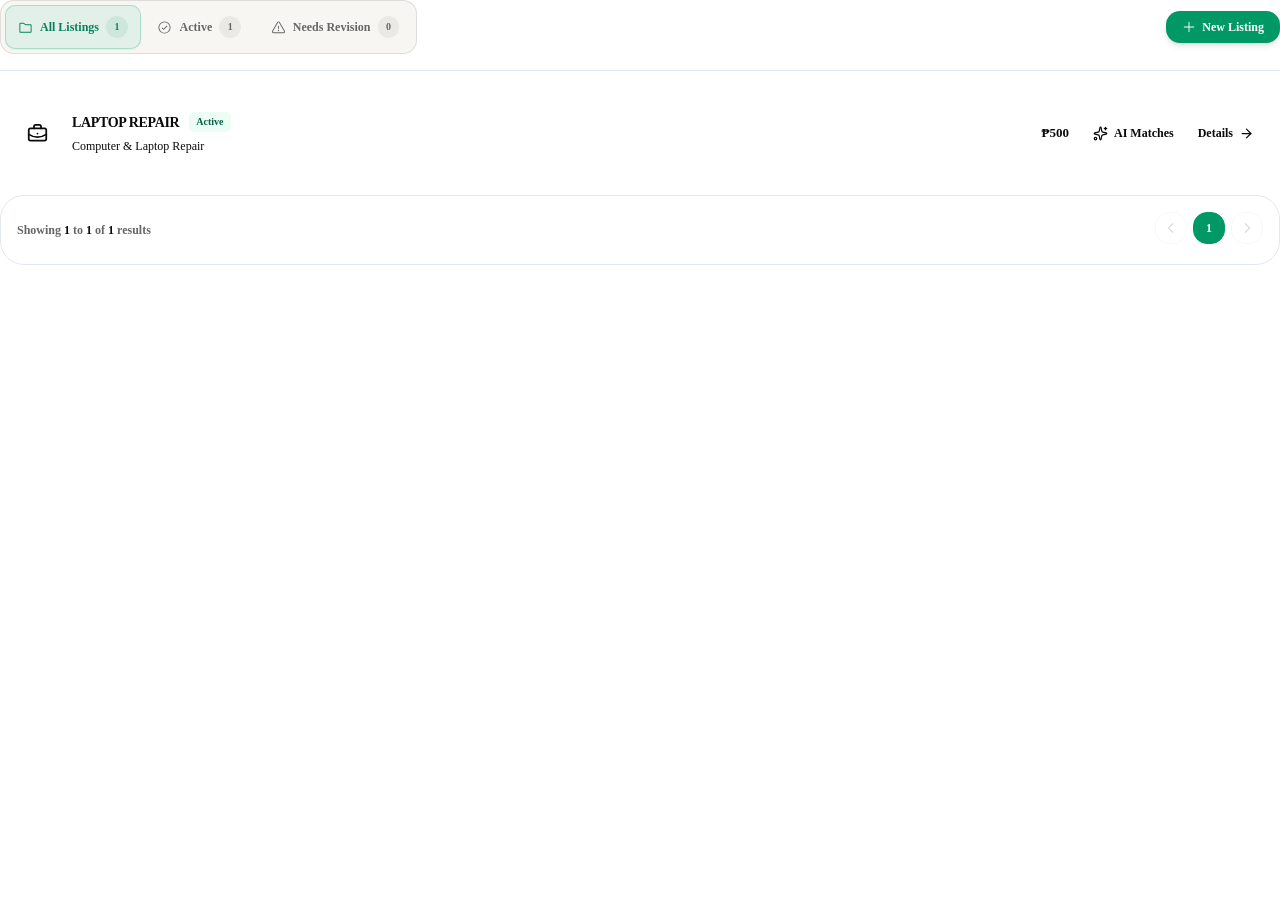
Test: compact managed listings and durable save state › saves an existing PROVIDER_VISITS listing as remote without requiring a replacement location
The width and height of the screenshot is (1280, 900).
Click the button with aria-label "Details of LAPTOP REPAIR": (1226, 133) x1=1188 y1=111 x2=1264 y2=155
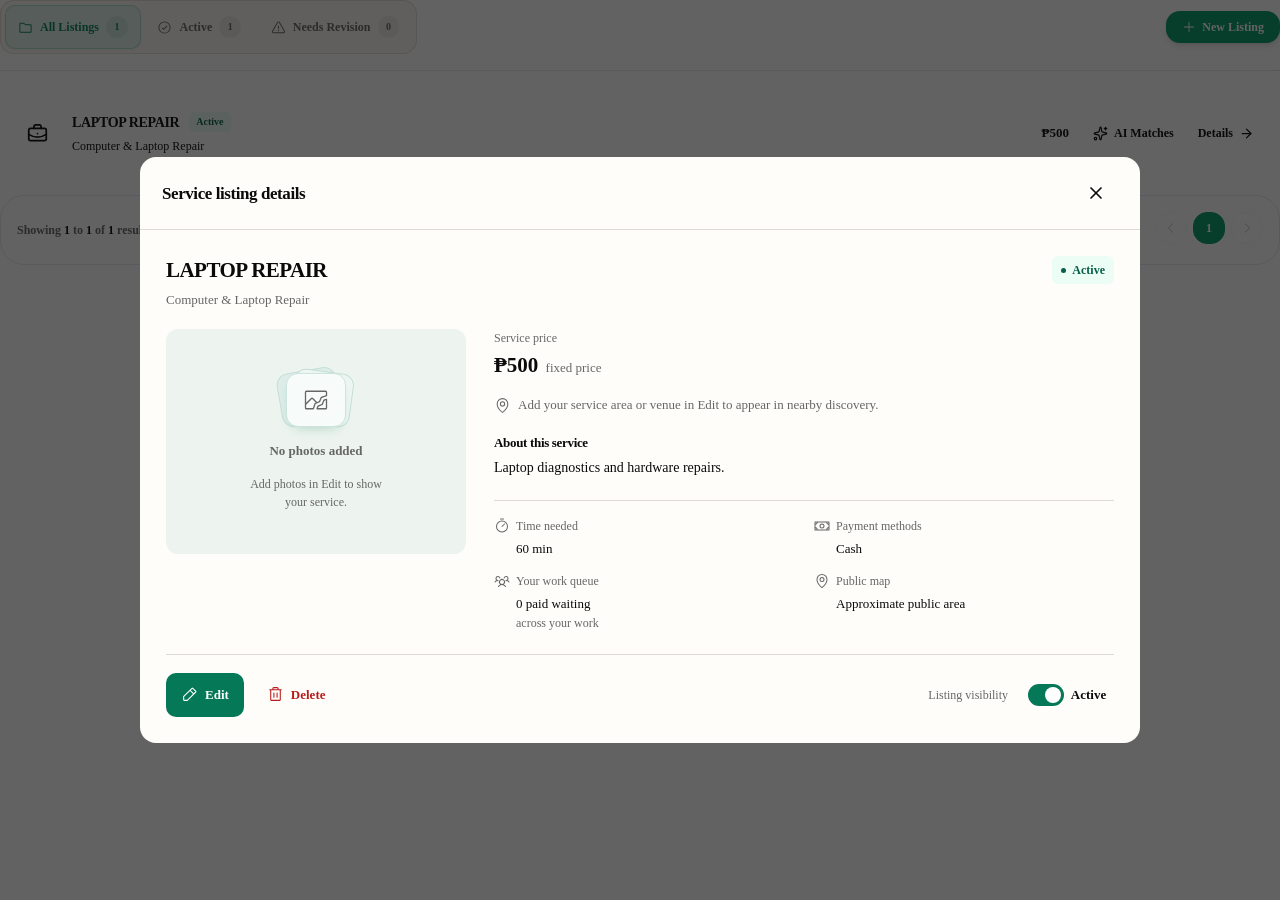
Click the button "Edit": (205, 694) x1=166 y1=672 x2=244 y2=716
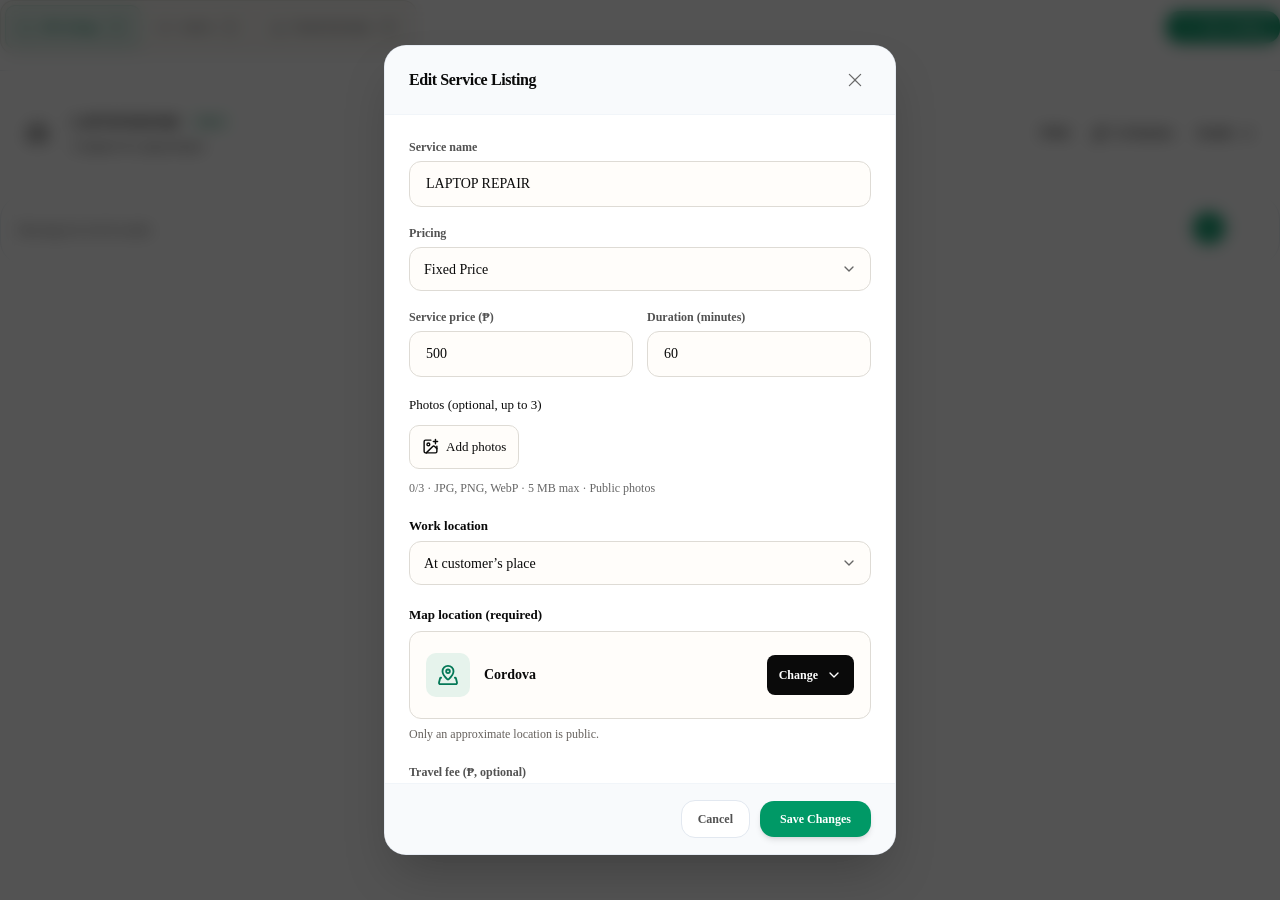
Select "Online" in the dropdown labelled "Work location": (640, 563) x1=409 y1=541 x2=871 y2=585
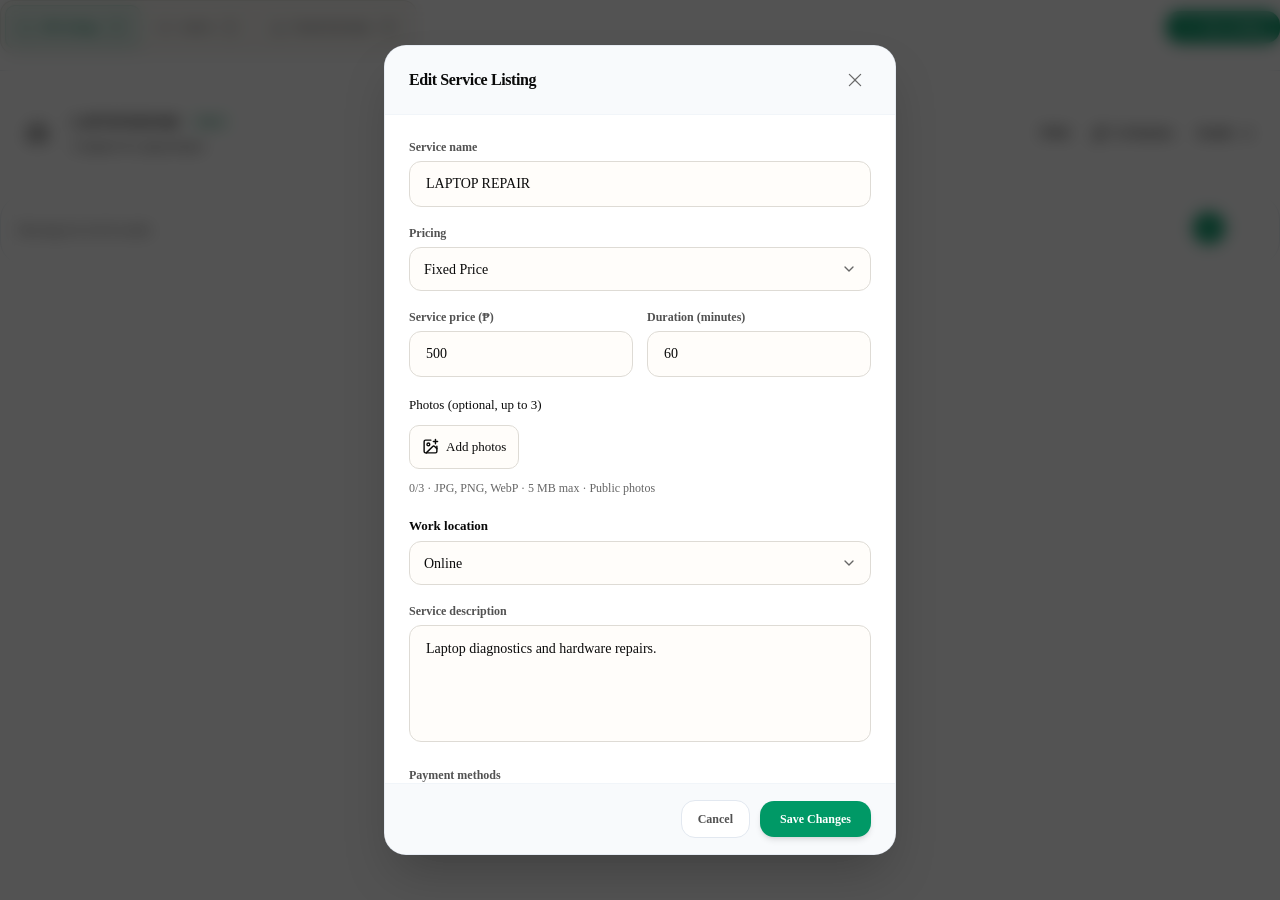
Click the button "Save Changes": (816, 819) x1=760 y1=801 x2=871 y2=837
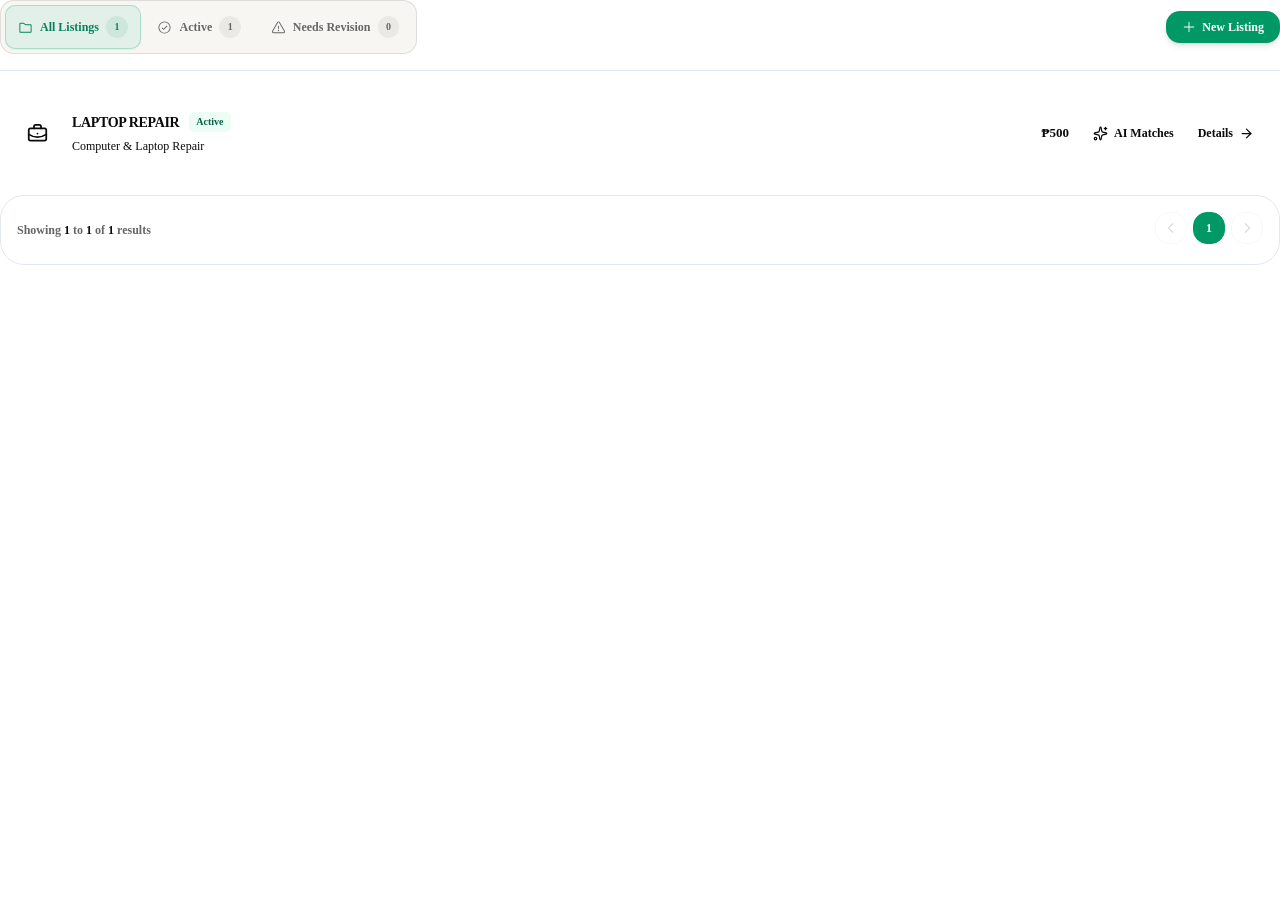
Expected: the heading "Edit Service Listing" is gone
